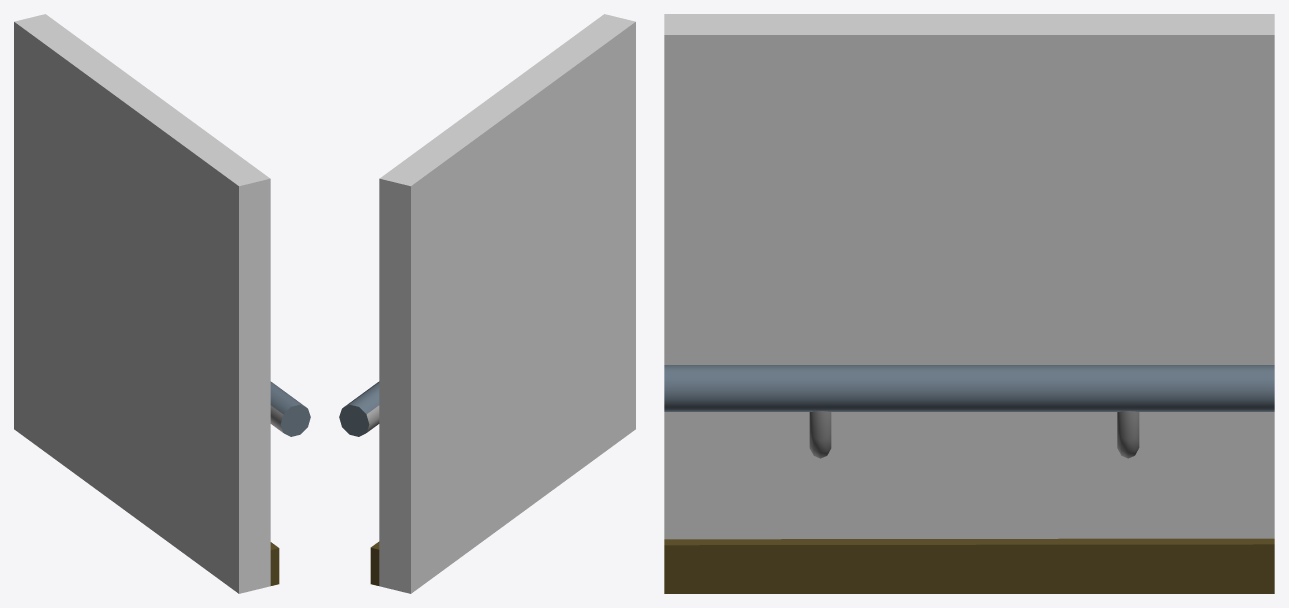
File: Wall with railing.fbx
3 views of the same model, side by side, from view 1: azimuth 30°, elevation 25°; view 2: azimuth 150°, elevation 25°; view 3: azimuth 270°, elevation 25° (orthographic). The views are drawn at different scales.
Parts seen in each view (by area): view 1: Wall_mesh, Railing_mesh; view 2: Wall_mesh, Railing_mesh; view 3: Wall_mesh, Railing_mesh, Support_2_mesh, Support_1_mesh.
Part boxes in pixels (bbox=[...]): Wall_mesh: bbox=[14, 14, 279, 593]; Railing_mesh: bbox=[270, 381, 310, 436]; Wall_mesh: bbox=[370, 14, 635, 593]; Railing_mesh: bbox=[339, 381, 379, 436]; Wall_mesh: bbox=[664, 14, 1274, 593]; Railing_mesh: bbox=[664, 365, 1274, 411]; Support_2_mesh: bbox=[1117, 411, 1139, 458]; Support_1_mesh: bbox=[809, 411, 831, 458].
Size of the model in its own units: 0.1844 by 1 by 1.
